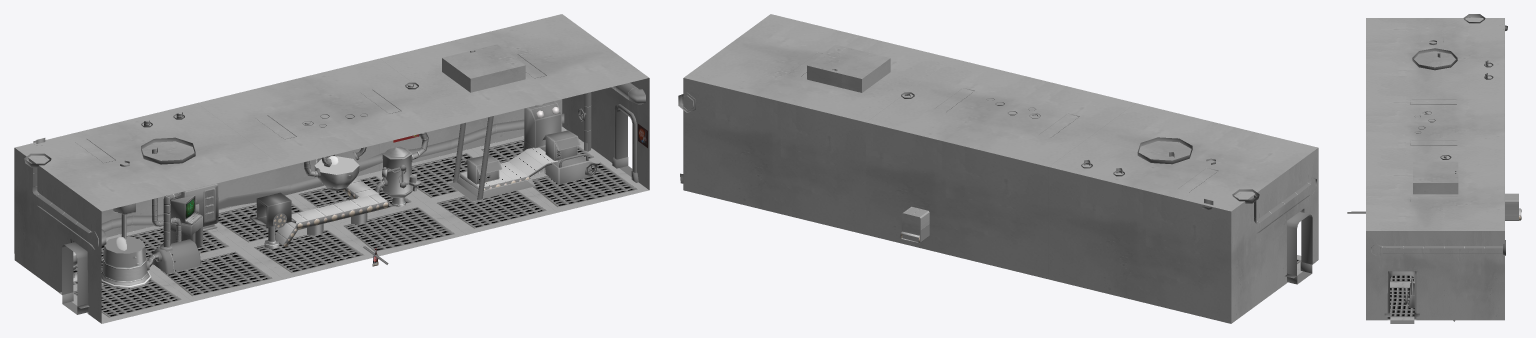
The model's file is MSH_Nuka_room_L2_R3_optimized.fbx.
The picture shows the model from 3 angles, left to right: view 1: azimuth 30°, elevation 25°; view 2: azimuth 150°, elevation 25°; view 3: azimuth 270°, elevation 25°; orthographic projection. The views are drawn at different scales.
Parts seen in each view (by area): view 1: lightmap0, lightmap-1; view 2: lightmap0, lightmap-1; view 3: lightmap0, lightmap-1.
Part boxes in pixels (left/top/right/bottom): lightmap0: left=14, top=14, right=649, bottom=323; lightmap-1: left=62, top=109, right=632, bottom=314; lightmap0: left=678, top=14, right=1318, bottom=323; lightmap-1: left=1287, top=212, right=1312, bottom=284; lightmap0: left=1366, top=14, right=1521, bottom=321; lightmap-1: left=1390, top=271, right=1414, bottom=323.
Size of the model in its own units: 30.91 by 7.12 by 10.36.
Materials: 8 (8 with a texture image).
